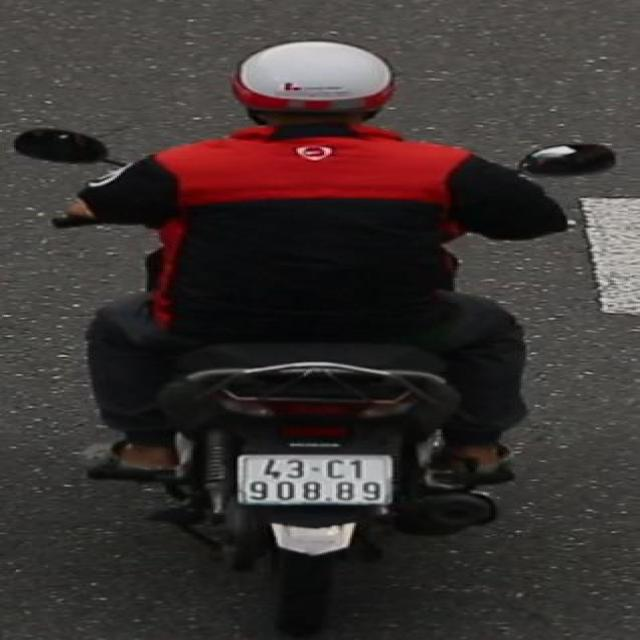LP: (232, 449, 406, 513)
helmet: (230, 35, 408, 135)
